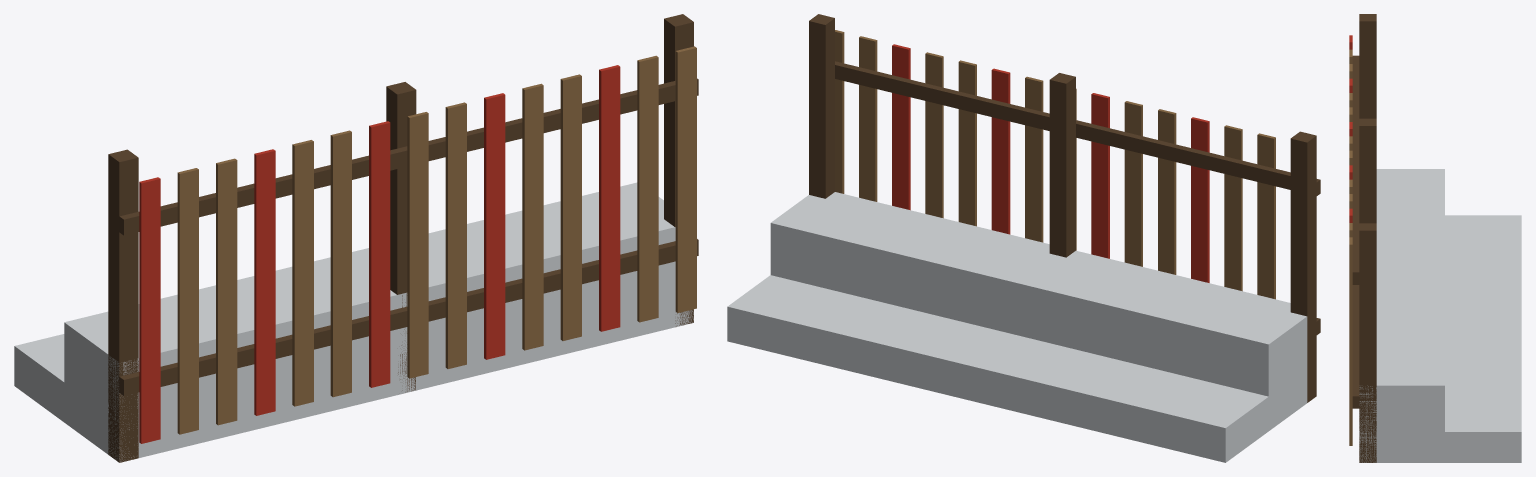
File: so_snow_fence.glb
3 renders of one model, left to right at view 1: azimuth 30°, elevation 25°; view 2: azimuth 150°, elevation 25°; view 3: azimuth 270°, elevation 25°, orthographic. The views are drawn at different scales.
Visible parts, largest first — view 1: so_snow_fence; view 2: so_snow_fence; view 3: so_snow_fence.
Boxes of the visible parts, <box> form: so_snow_fence: <box>14,14,698,462</box>; so_snow_fence: <box>727,14,1320,462</box>; so_snow_fence: <box>1349,14,1521,462</box>.
Size of the model in its own units: 3 by 1.5 by 1.01.
